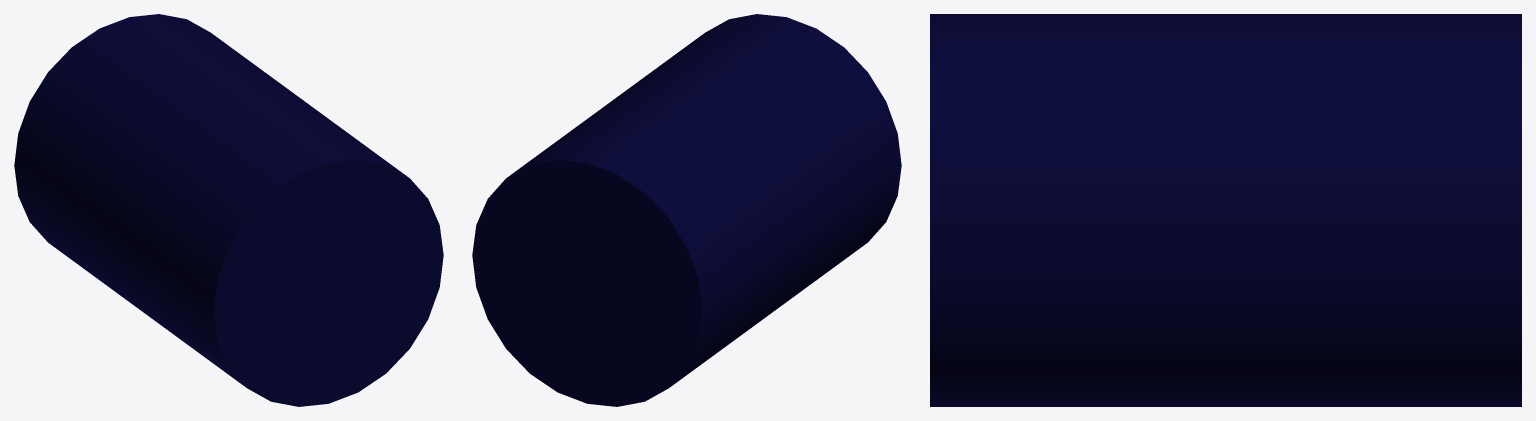
Rendered from original-13.obj.
3 renders of one model, left to right at view 1: azimuth 30°, elevation 25°; view 2: azimuth 150°, elevation 25°; view 3: azimuth 270°, elevation 25°, orthographic. The views are drawn at different scales.
Parts seen in each view (by area): view 1: mesh10/mesh10-geometry#mesh10-geometry; view 2: mesh10/mesh10-geometry#mesh10-geometry; view 3: mesh10/mesh10-geometry#mesh10-geometry.
Part boxes in pixels (x1,y1,x2,y2): mesh10/mesh10-geometry#mesh10-geometry: (14,14,443,406); mesh10/mesh10-geometry#mesh10-geometry: (472,14,901,406); mesh10/mesh10-geometry#mesh10-geometry: (930,14,1521,406).
Size of the model in its own units: 0.00907 by 0.00907 by 0.0136.
